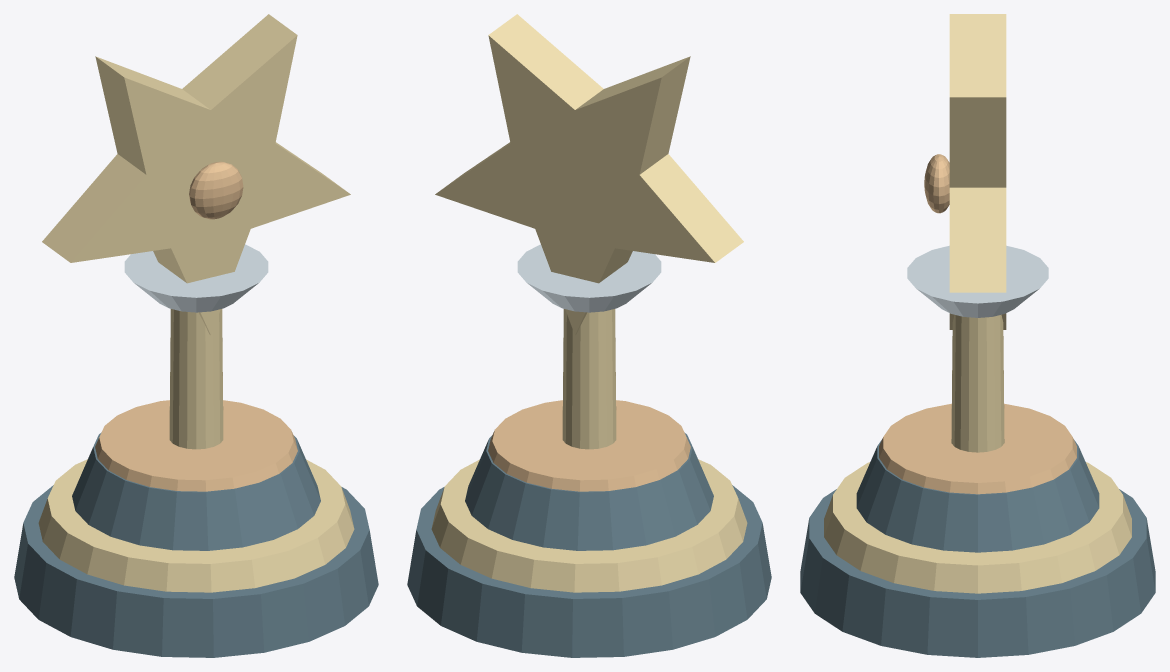
Rendered from lone-star.glb.
3 views of the same model, side by side, from view 1: azimuth 30°, elevation 25°; view 2: azimuth 150°, elevation 25°; view 3: azimuth 270°, elevation 25° (orthographic).
Bounding box in the file's own units: 1.2 × 1.94 × 1.19.
